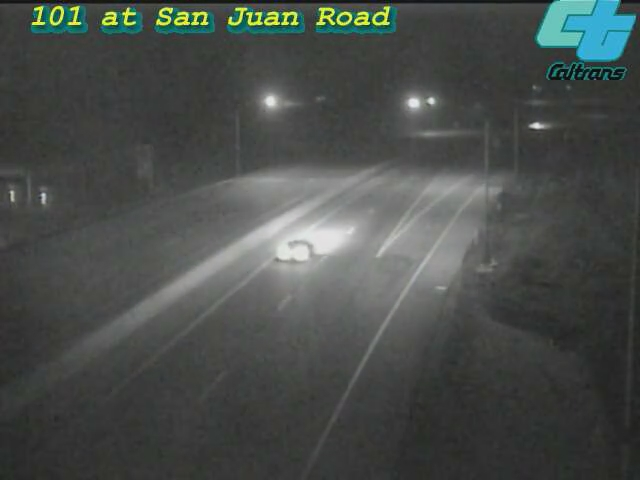vehicle: (255, 207, 335, 287), (511, 102, 561, 152)
